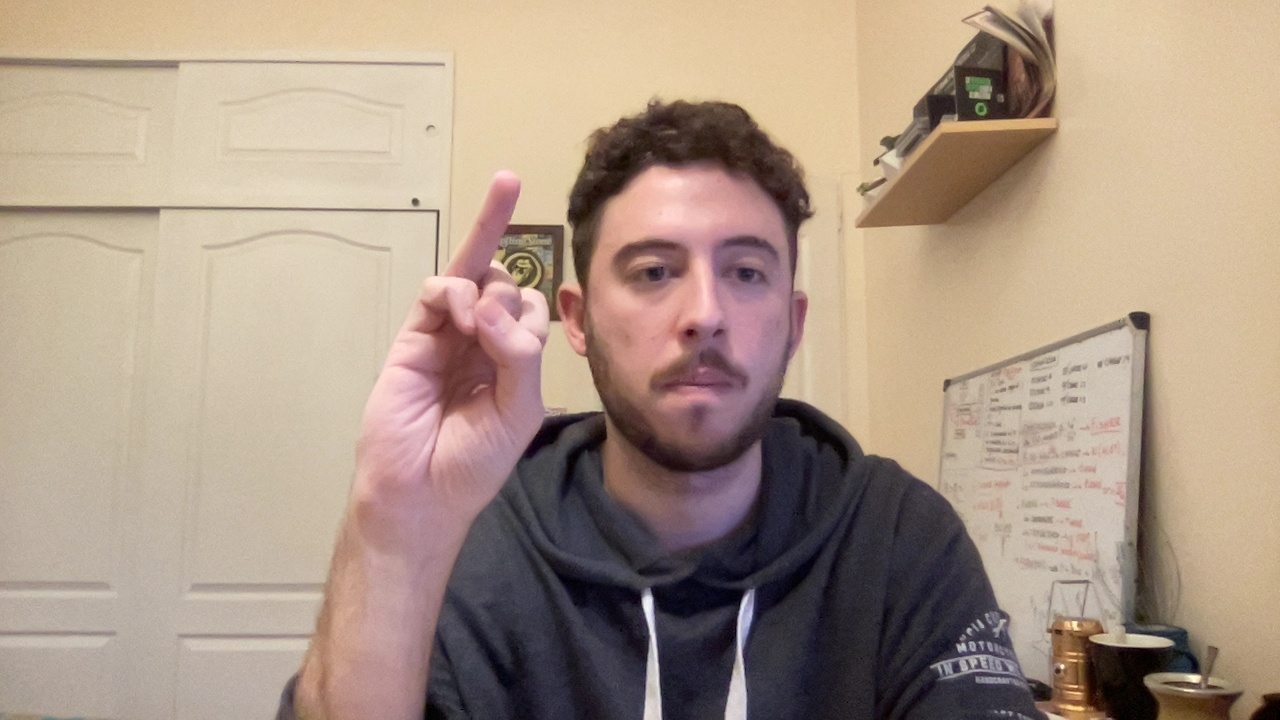anular: (322, 154, 581, 511)
